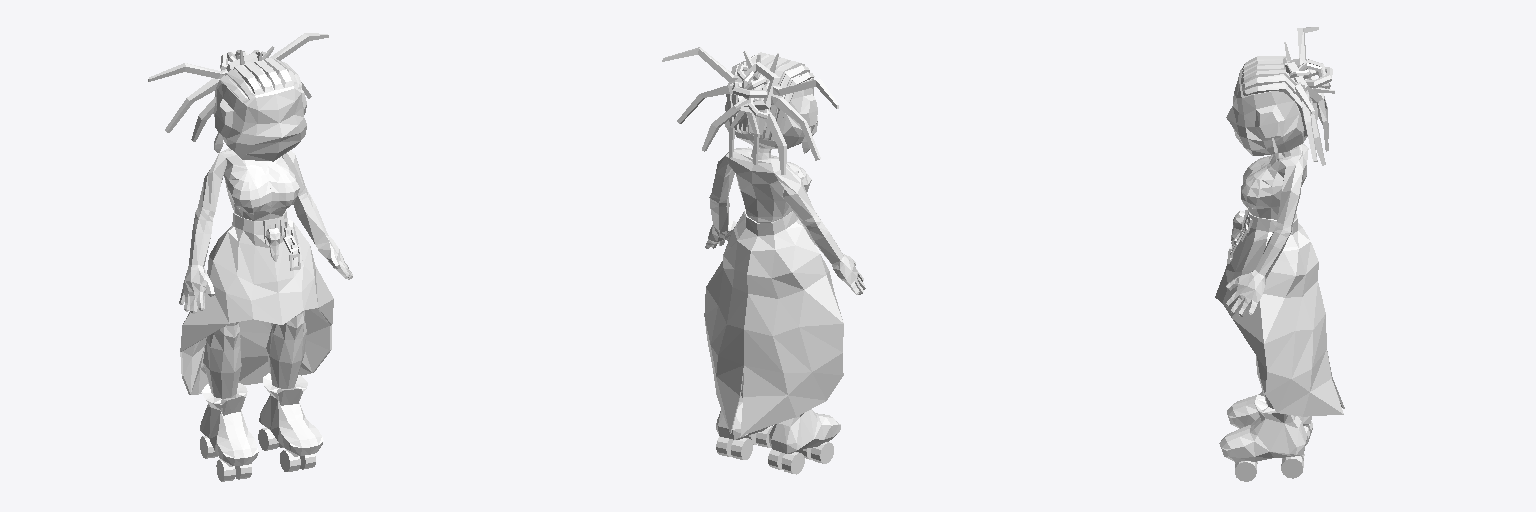
The model's file is bruja_000000.obj.
3 renders of one model, left to right at view 1: azimuth 30°, elevation 25°; view 2: azimuth 150°, elevation 25°; view 3: azimuth 270°, elevation 25°, orthographic.
Visible parts, largest first — view 1: Bruja_Plane.001; view 2: Bruja_Plane.001; view 3: Bruja_Plane.001.
Part boxes in pixels (x1,y1,x2,y2): Bruja_Plane.001: (148, 33, 352, 481); Bruja_Plane.001: (662, 47, 865, 474); Bruja_Plane.001: (1215, 27, 1344, 481).
Size of the model in its own units: 7.48 by 16.61 by 4.73.